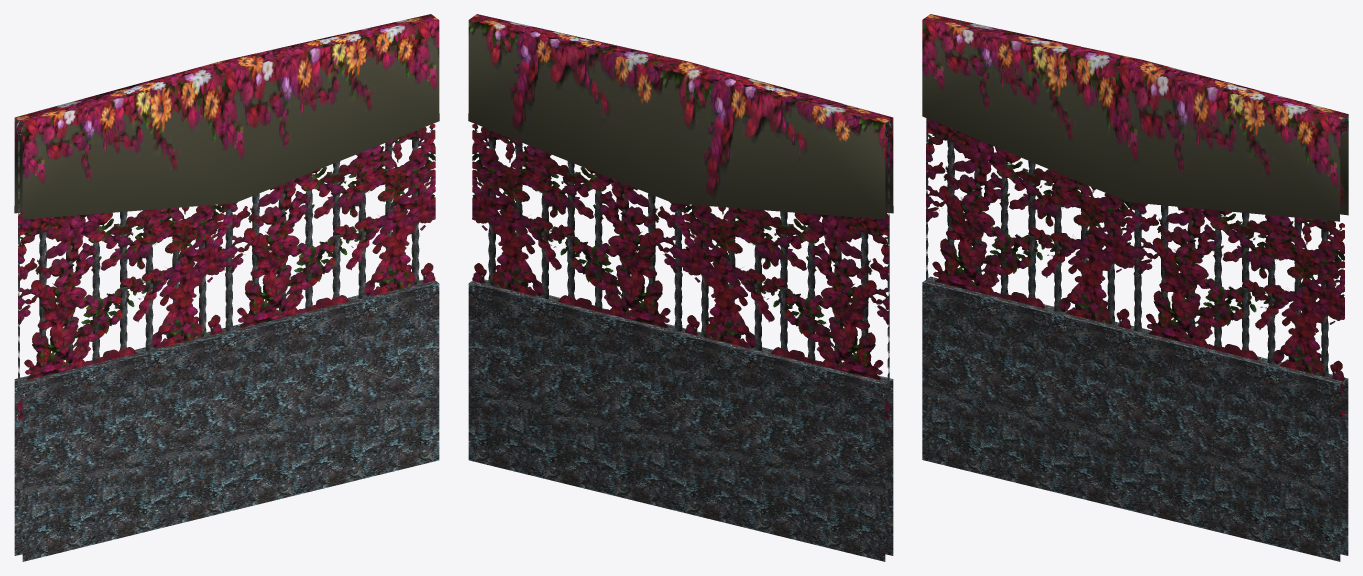
Rendered from thm_nboo_imprv_lattice_wall_short_s01_l0.fbx.
3 views of the same model, side by side, from view 1: azimuth 30°, elevation 25°; view 2: azimuth 150°, elevation 25°; view 3: azimuth 330°, elevation 25° (orthographic).
Parts seen in each view (by area): view 1: mesh_node; view 2: mesh_node; view 3: mesh_node.
Part boxes in pixels (box(x1,y1,x2,y2)): mesh_node: box(14, 14, 439, 561); mesh_node: box(468, 14, 893, 561); mesh_node: box(922, 14, 1348, 561).
Bounding box in the file's own units: 3 × 3.08 × 0.1883.
